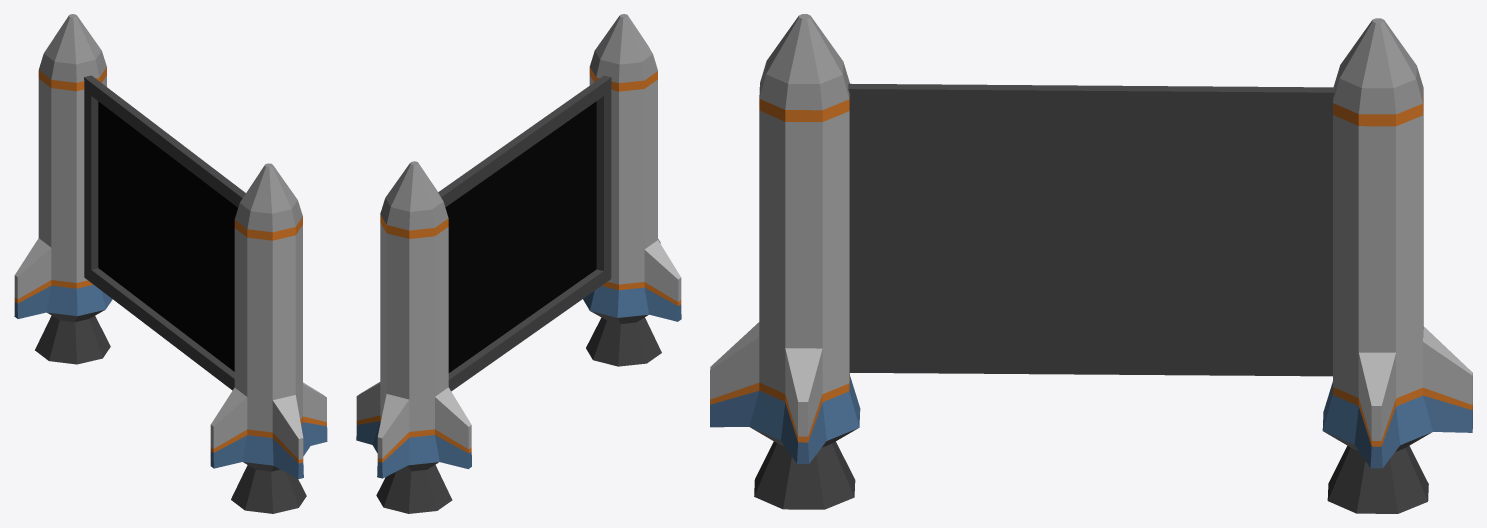
File: sign.glb
3 views of the same model, side by side, from view 1: azimuth 30°, elevation 25°; view 2: azimuth 150°, elevation 25°; view 3: azimuth 270°, elevation 25° (orthographic). The views are drawn at different scales.
Parts seen in each view (by area): view 1: Cylinder, Cube; view 2: Cylinder, Cube; view 3: Cube, Cylinder.
Part boxes in pixels (x1,y1,x2,y2): Cylinder: [14, 14, 327, 513]; Cube: [84, 75, 245, 390]; Cylinder: [356, 14, 681, 513]; Cube: [438, 75, 611, 391]; Cube: [848, 83, 1334, 376]; Cylinder: [710, 14, 1472, 513].
Bounding box in the file's own units: 11.46 × 30.8 × 45.11.
